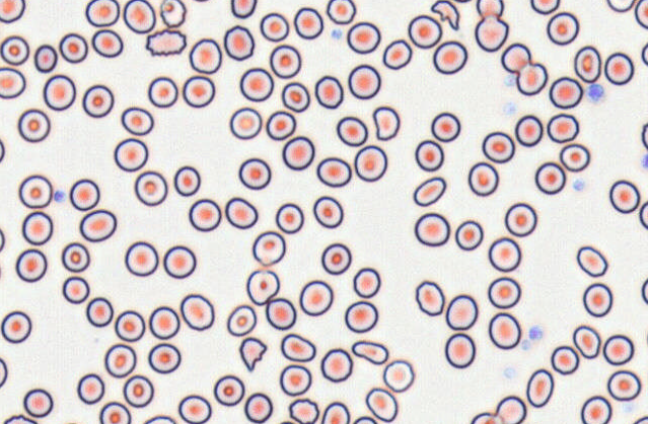PLT: (584, 83, 608, 106), (503, 99, 519, 117), (528, 325, 544, 342), (571, 176, 587, 192), (519, 338, 533, 354), (53, 190, 68, 204), (329, 26, 344, 40), (504, 72, 517, 87), (503, 366, 516, 380), (620, 402, 634, 414), (640, 151, 648, 169)
RBC: (474, 15, 508, 52), (188, 37, 222, 74), (42, 74, 76, 111), (180, 293, 214, 330), (299, 279, 333, 316), (354, 144, 387, 182), (113, 137, 148, 172), (414, 212, 450, 246), (488, 312, 521, 349), (79, 209, 116, 242), (407, 14, 442, 48), (239, 67, 274, 101), (432, 40, 467, 74), (347, 64, 381, 99), (124, 241, 158, 276), (246, 269, 279, 305), (134, 170, 167, 206), (252, 230, 285, 266), (445, 294, 478, 330), (488, 236, 521, 272), (18, 174, 52, 208), (365, 387, 398, 422), (320, 347, 353, 382), (504, 202, 537, 237), (145, 28, 186, 56), (525, 368, 554, 407), (549, 76, 583, 109), (546, 11, 579, 45), (17, 108, 50, 142), (344, 300, 378, 333), (346, 21, 380, 54), (487, 276, 521, 309), (282, 135, 314, 170), (104, 343, 136, 378), (606, 369, 641, 401), (467, 161, 499, 196), (444, 332, 475, 368), (515, 62, 548, 95), (122, 0, 155, 33), (229, 106, 262, 139), (188, 198, 221, 231), (163, 245, 196, 278), (238, 157, 271, 190), (122, 374, 154, 408), (147, 342, 181, 374), (148, 305, 180, 339), (15, 248, 47, 282), (269, 44, 301, 78), (21, 211, 53, 245), (82, 84, 114, 118), (224, 197, 258, 229), (223, 25, 254, 60), (316, 156, 351, 187), (573, 45, 601, 83), (182, 75, 215, 107), (382, 359, 414, 392), (534, 161, 566, 194), (481, 131, 514, 163), (609, 179, 640, 213), (582, 282, 612, 317), (415, 280, 444, 316), (213, 374, 245, 406), (279, 364, 311, 396), (576, 245, 608, 277), (265, 297, 296, 330), (0, 310, 31, 343), (320, 242, 351, 275), (312, 195, 343, 228), (412, 176, 446, 206), (280, 333, 315, 362), (147, 76, 178, 108), (69, 178, 100, 210), (114, 310, 145, 342), (602, 334, 634, 365), (604, 52, 634, 85), (293, 6, 323, 39), (546, 113, 579, 143), (314, 75, 343, 109), (351, 339, 388, 365), (500, 42, 531, 73), (336, 115, 367, 146), (91, 28, 123, 58), (226, 304, 256, 336), (414, 139, 444, 171), (178, 394, 211, 423), (120, 106, 153, 135), (572, 325, 601, 358), (514, 114, 543, 147), (85, 0, 120, 27), (265, 110, 296, 140), (58, 32, 88, 63), (382, 38, 412, 69), (430, 111, 460, 142), (281, 81, 310, 112), (352, 267, 381, 298), (559, 143, 590, 172), (454, 219, 483, 250), (275, 202, 304, 233), (494, 395, 526, 423), (580, 395, 612, 423), (23, 388, 53, 417), (0, 35, 29, 65), (550, 345, 579, 375), (61, 242, 90, 272), (259, 12, 289, 41), (76, 373, 104, 404), (244, 392, 272, 423), (85, 296, 113, 327), (173, 165, 200, 196), (0, 66, 25, 99), (288, 397, 319, 423), (62, 276, 90, 304), (159, 0, 186, 27), (326, 0, 356, 24), (99, 401, 131, 423), (33, 44, 57, 73), (320, 401, 350, 423), (0, 0, 25, 23), (476, 0, 503, 18), (230, 0, 256, 18), (530, 0, 560, 14), (634, 0, 648, 29), (469, 411, 502, 423), (606, 0, 635, 12), (2, 414, 37, 423), (142, 415, 176, 423), (639, 200, 648, 229), (0, 357, 8, 387), (352, 415, 377, 423), (641, 122, 648, 149), (641, 277, 648, 304), (641, 42, 648, 66), (0, 138, 5, 163), (632, 415, 647, 423), (0, 228, 5, 251), (277, 419, 297, 424), (60, 421, 86, 424), (453, 0, 472, 3), (191, 0, 211, 2)
Schistocyte: (372, 106, 402, 142), (429, 0, 461, 32), (239, 337, 268, 372)
